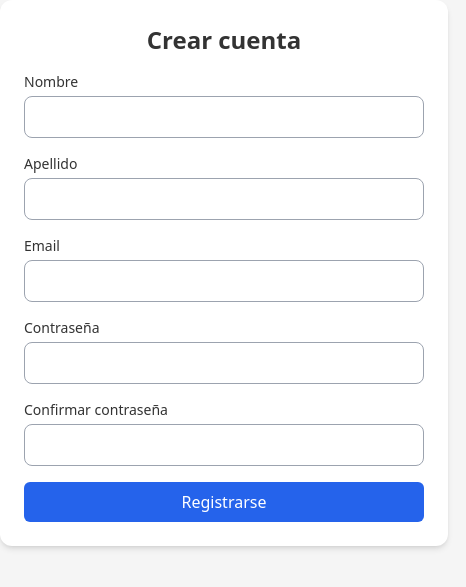
Scenario: RegisterForm › muestra un error si las contraseñas no coinciden
The width and height of the screenshot is (466, 587).
In the field labelled "Nombre": (224, 117) [24,96,424,138], type "John"
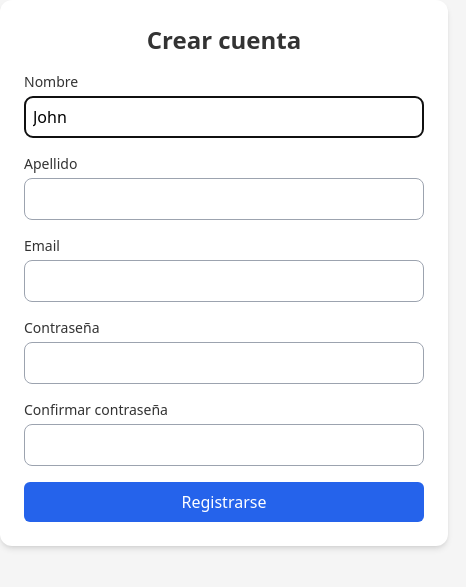
In the field labelled "Apellido": (224, 199) [24,178,424,220], type "Doe"
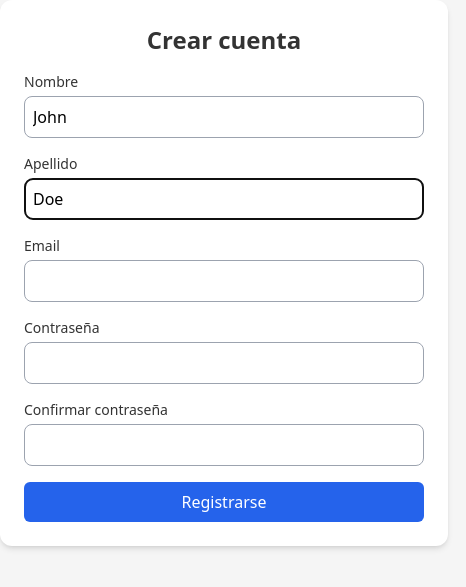
In the field labelled "Email": (224, 281) [24,260,424,302], type "john.doe@test.com"
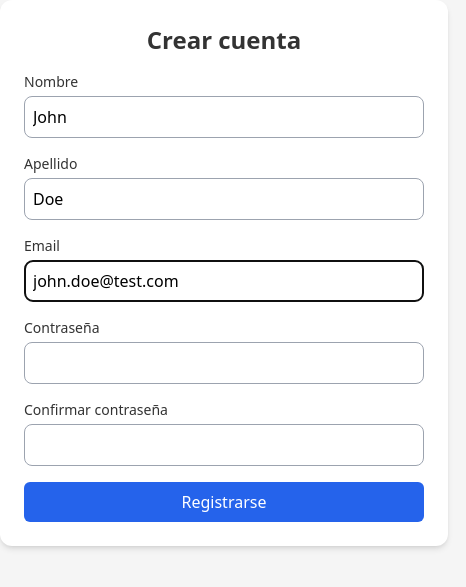
In the password field labelled "Contraseña": (224, 363) [24,342,424,384], type "password123"
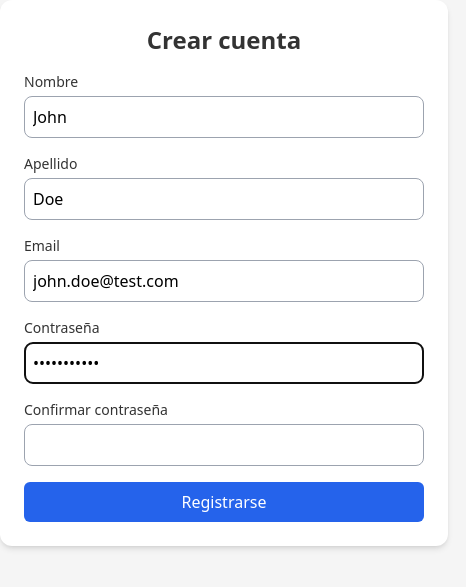
In the password field labelled "Confirmar contraseña": (224, 445) [24,424,424,466], type "password456"
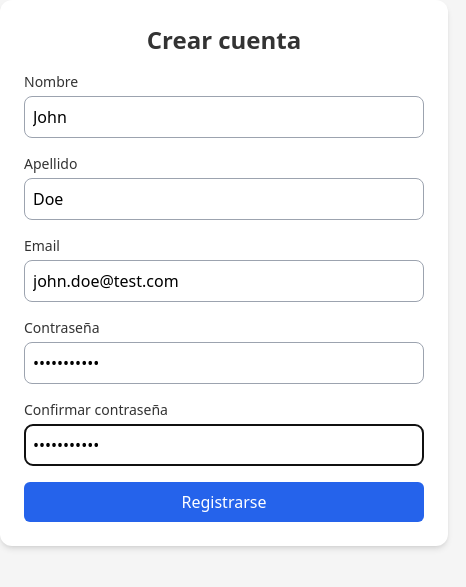
Click the button "Registrarse": click(224, 502) [24,482,424,522]
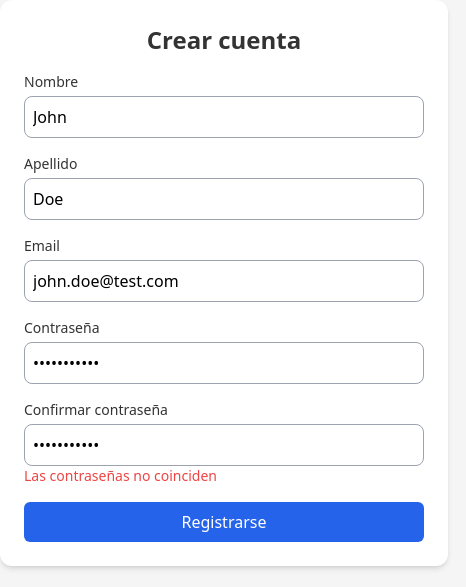
Expected: the text "Las contraseñas no coinciden" is shown, [24,466,217,485]
